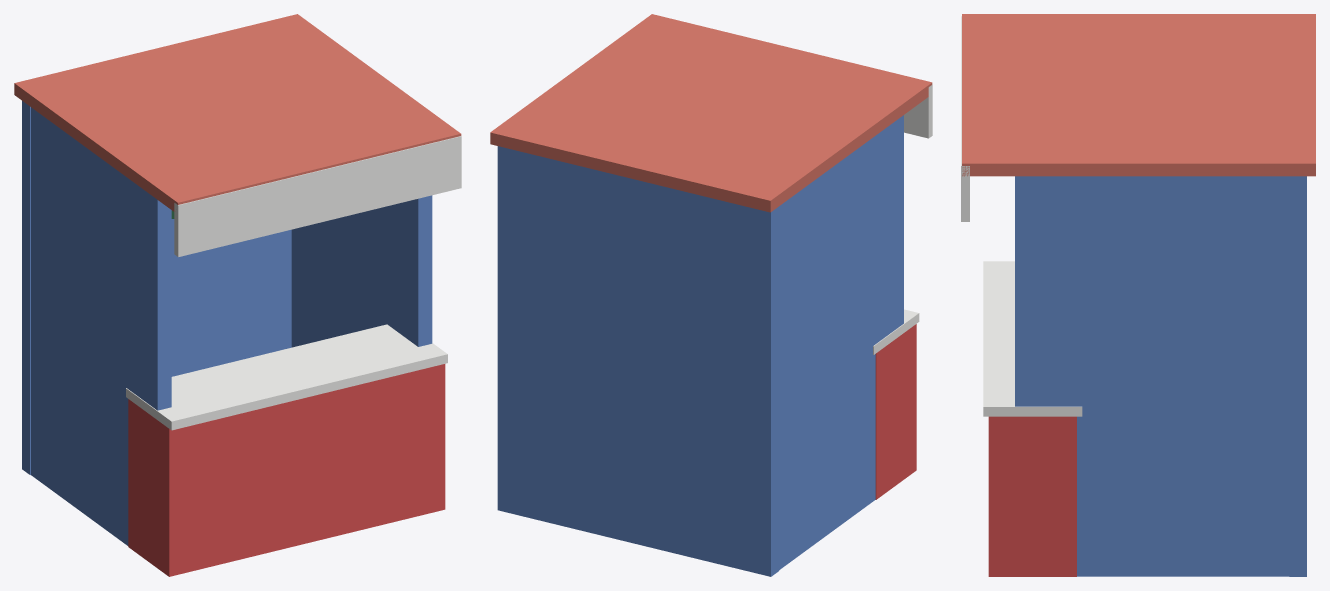
Rendered from VJ_Puesto.fbx.
The picture shows the model from 3 angles, left to right: view 1: azimuth 30°, elevation 25°; view 2: azimuth 150°, elevation 25°; view 3: azimuth 270°, elevation 25°; orthographic projection. The views are drawn at different scales.
Parts seen in each view (by area): view 1: VJ_Puesto; view 2: VJ_Puesto; view 3: VJ_Puesto.
Part boxes in pixels (left/top/right/bottom): VJ_Puesto: left=14, top=14, right=461, bottom=576; VJ_Puesto: left=490, top=14, right=932, bottom=576; VJ_Puesto: left=961, top=14, right=1315, bottom=576.
Size of the model in its own units: 2 by 2.59 by 2.
